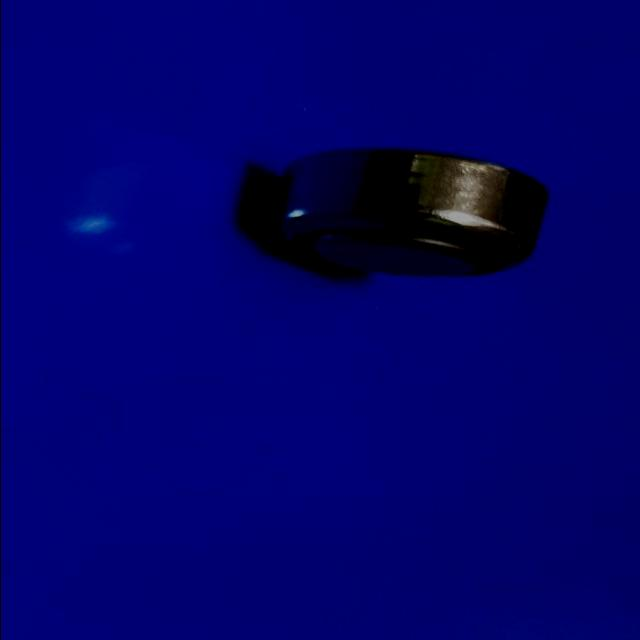COIN: (260, 146, 548, 277)
